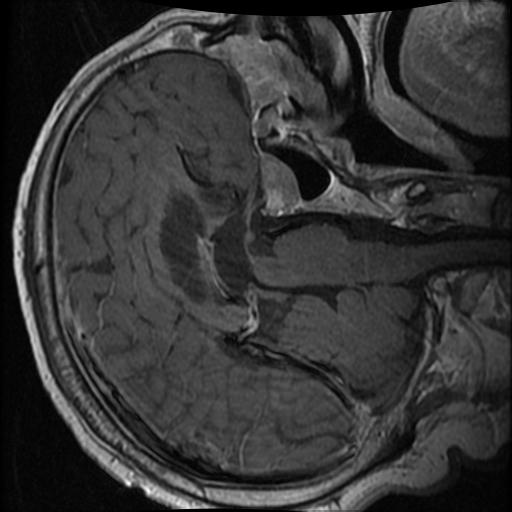pituitary tumour: (259, 152, 301, 217)
